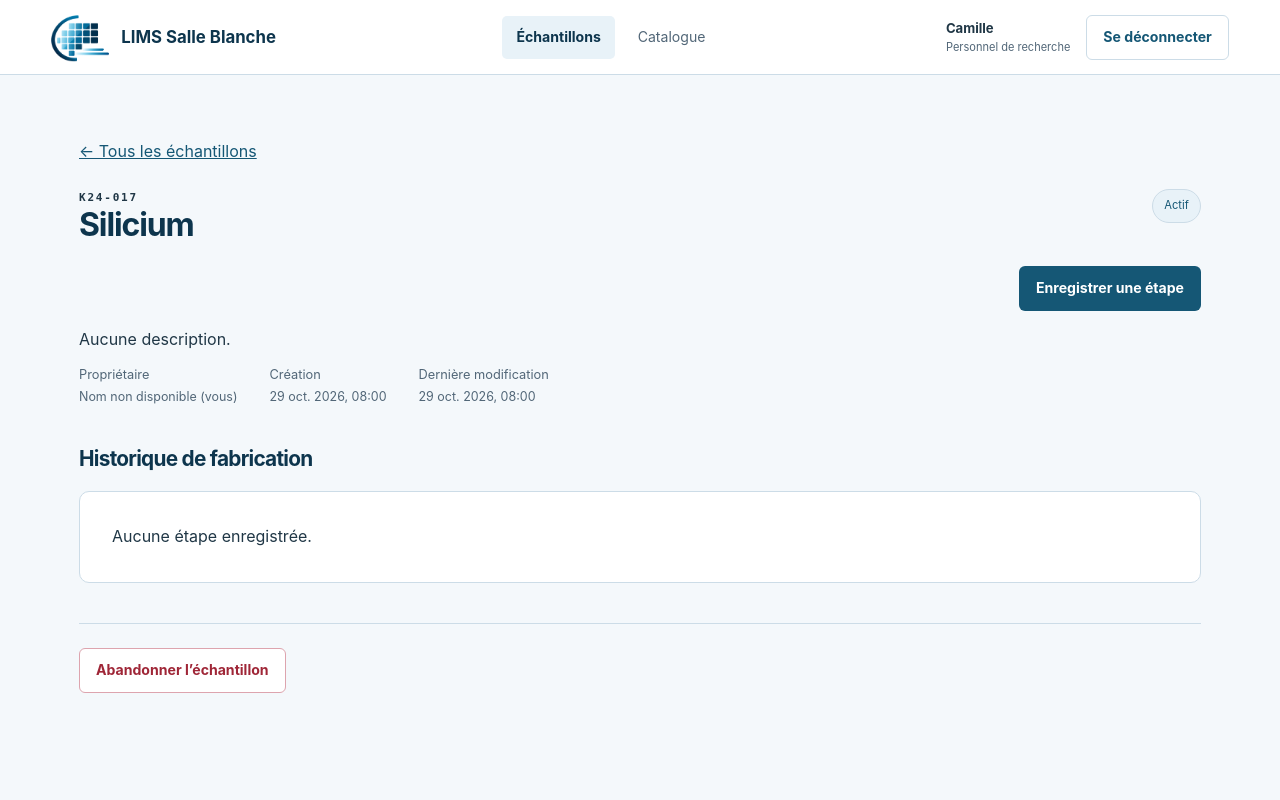
Test case: Historique et enregistrement de fabrication › préremplit la date locale à l’ouverture et affiche le contexte réel
This screenshot has width=1280, height=800.
Click the button "Enregistrer une étape" at (1110,288), box top-left (1019, 266), bottom-right (1201, 311)
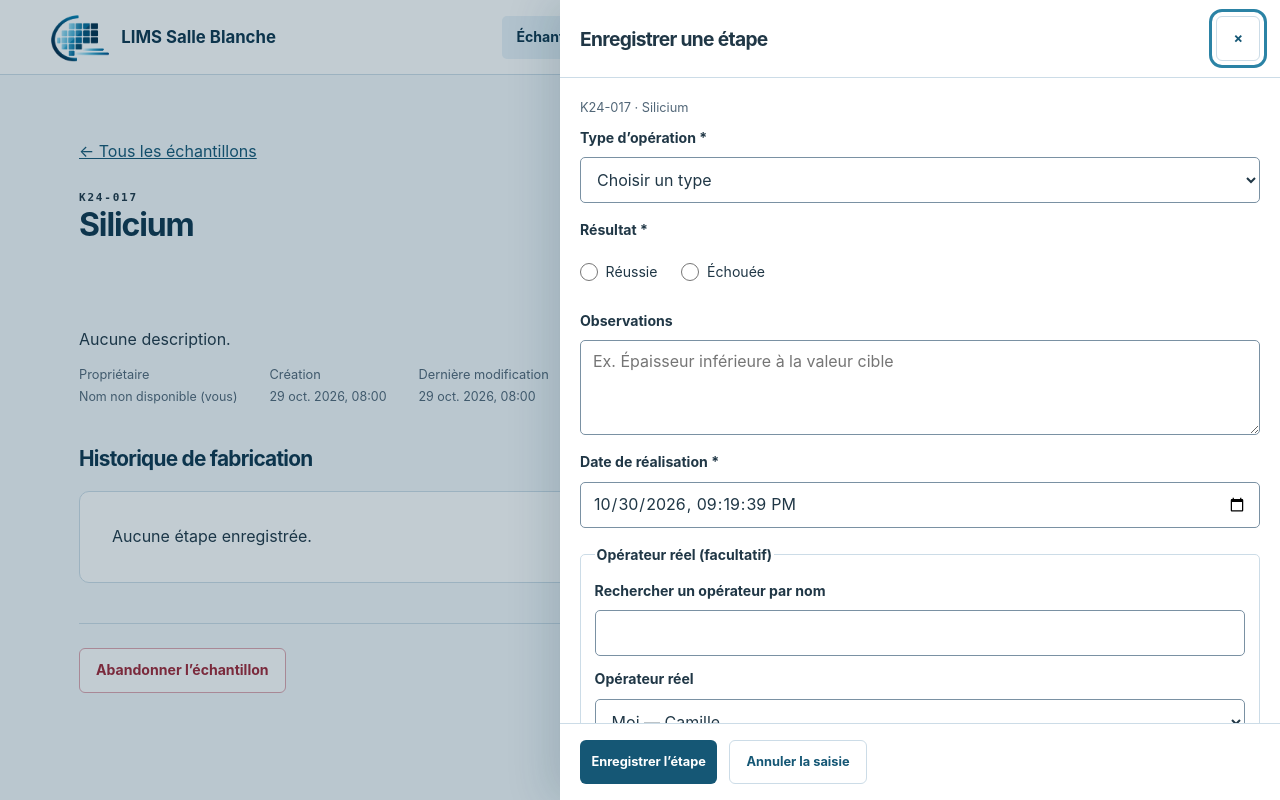
Check: the dropdown labelled "Type d’opération *" is shown, box top-left (580, 157), bottom-right (1260, 203)
Check: the text "K24-017 · Silicium" is shown, box top-left (580, 100), bottom-right (688, 115)
Check: the button "Enregistrer l’étape" is enabled, box top-left (580, 740), bottom-right (717, 784)
